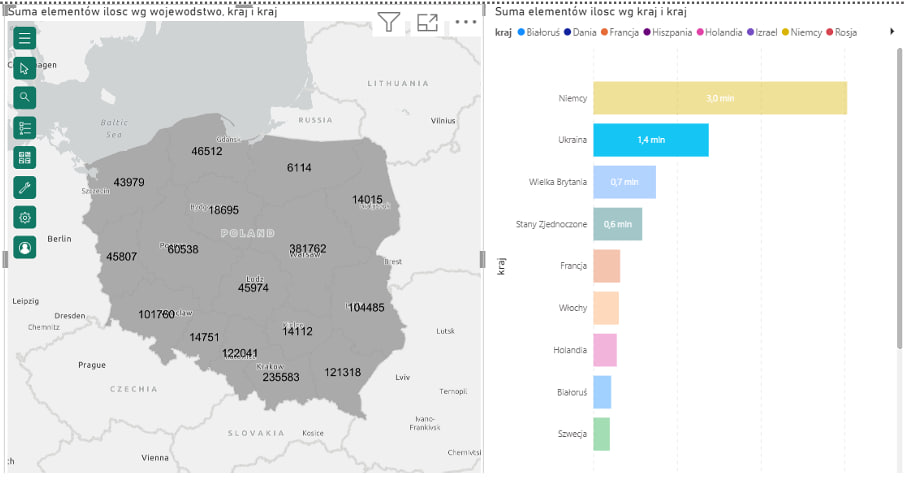

The page's visual inventory and layout, read from the dashboard file:
{"tool":"powerbi","page":{"name":"hipoteza 3","canvas":[1280,720],"ordinal":2},"visuals":[{"type":"esriVisual","fields":{"Size":["Sum(zagr_1.ilosc)"],"Location":["Tabela 2.wojewodstwo"],"Color":["zagr_1.kraj"],"Time":["Tabela 3.kraj"]},"box":[10.5,0,675.5,719.7],"z":0},{"type":"barChart","fields":{"Category":["zagr_1.kraj"],"Y":["Sum(zagr_1.ilosc)"],"Series":["Tabela 3.kraj"]},"box":[696.6,0,582.9,719.7],"z":1000}]}

Visuals, with their boxes on the page's 1280x720 design canvas (x1, y1, x2, y2). These are canvas units, not pixel positions in the 915x484 screenshot, which may show the page scaled, cropped or inside an application window:
esriVisual - Sum(zagr_1.ilosc) x Tabela 2.wojewodstwo: [10, 0, 686, 720]
barChart - zagr_1.kraj x Sum(zagr_1.ilosc): [697, 0, 1280, 720]
